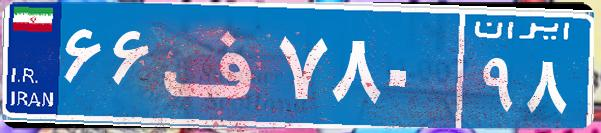0: (385, 28, 445, 110)
6: (57, 26, 110, 107), (110, 28, 158, 105)
7: (273, 28, 330, 110)
8: (330, 28, 385, 110), (525, 38, 570, 115)
9: (475, 38, 525, 113)
ف: (158, 15, 273, 115)
